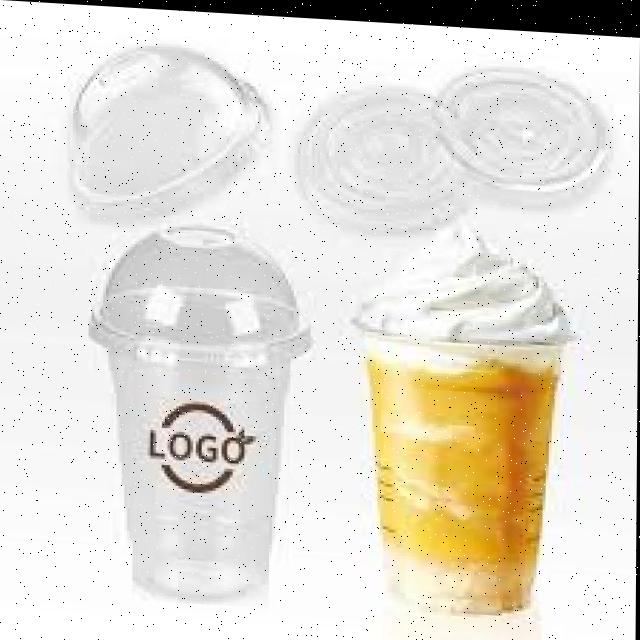cup: (91, 285, 319, 595), (368, 331, 562, 608)
